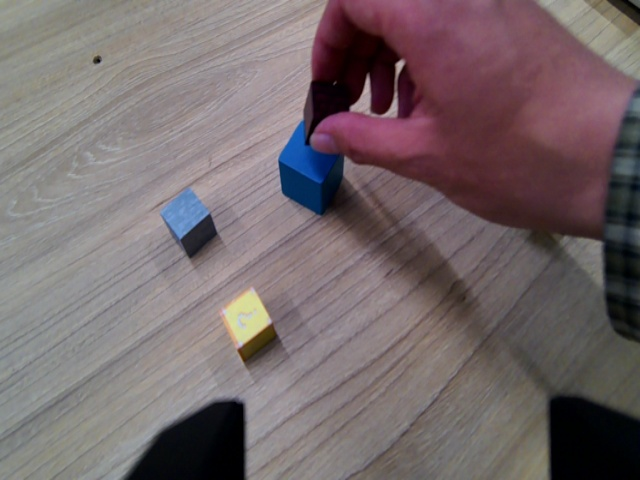lucky: (215, 282, 280, 365)
stone: (151, 184, 221, 261)
